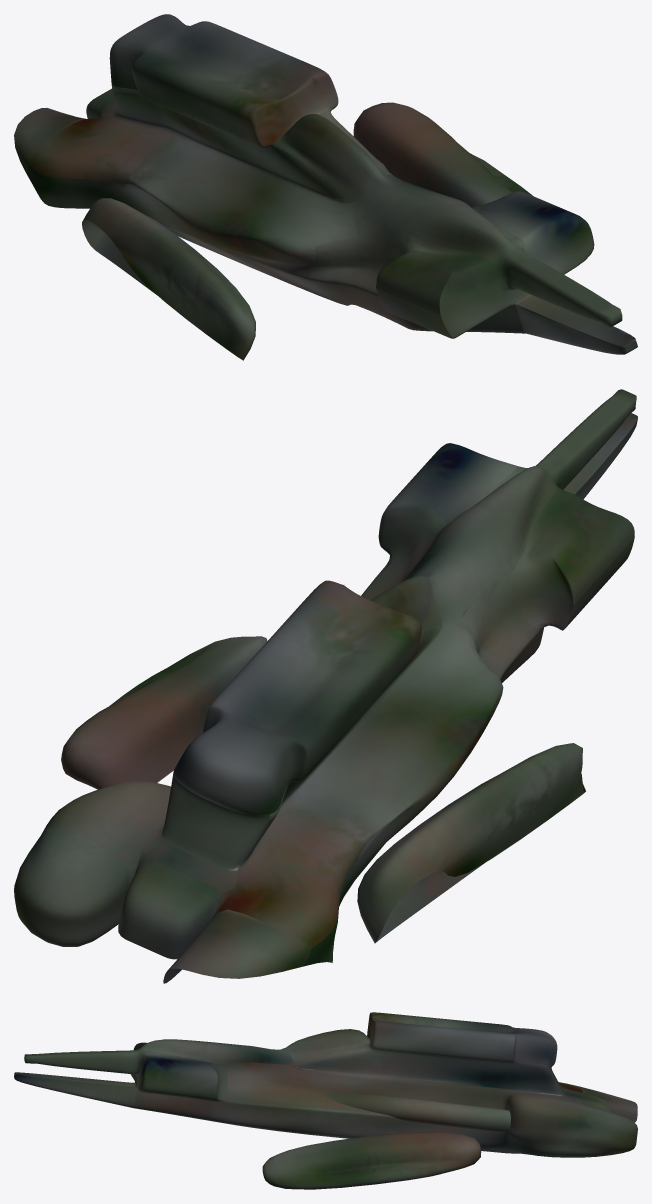
File: Nave.fbx
The picture shows the model from 3 angles, top to bottom: view 1: azimuth 30°, elevation 25°; view 2: azimuth 150°, elevation 25°; view 3: azimuth 270°, elevation 25°; orthographic projection. The views are drawn at different scales.
Visible parts, largest first — view 1: LOD_0; view 2: LOD_0; view 3: LOD_0.
Boxes of the visible parts, x1=… form: LOD_0: x1=14, y1=14, x2=637, y2=360; LOD_0: x1=14, y1=389, x2=637, y2=983; LOD_0: x1=14, y1=1012, x2=637, y2=1189.
Size of what is drawn, in the model's own units: 1978 by 1165 by 4780.
